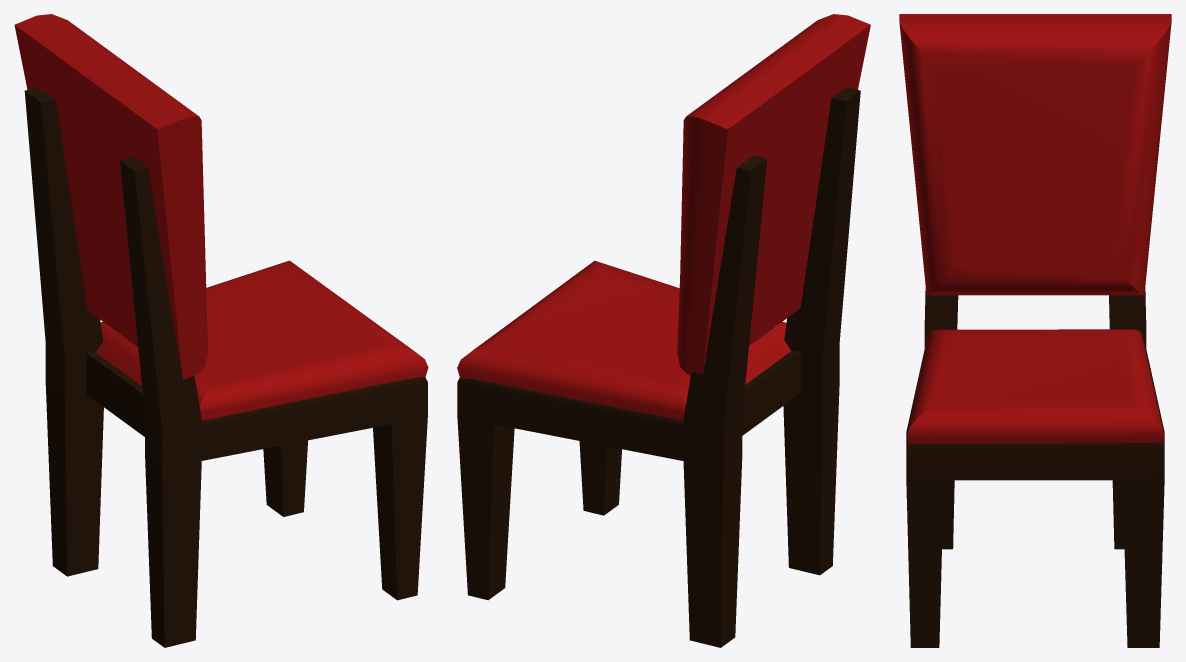
The model's file is Food Court_Chair.fbx.
The picture shows the model from 3 angles, left to right: view 1: azimuth 30°, elevation 25°; view 2: azimuth 150°, elevation 25°; view 3: azimuth 270°, elevation 25°; orthographic projection. The views are drawn at different scales.
Parts seen in each view (by area): view 1: pCube9; view 2: pCube9; view 3: pCube9.
Part boxes in pixels (<box>): pCube9: <box>14,14,428,647</box>; pCube9: <box>457,14,870,647</box>; pCube9: <box>899,14,1171,647</box>.
Size of the model in its own units: 1.61 by 2.95 by 1.42.
